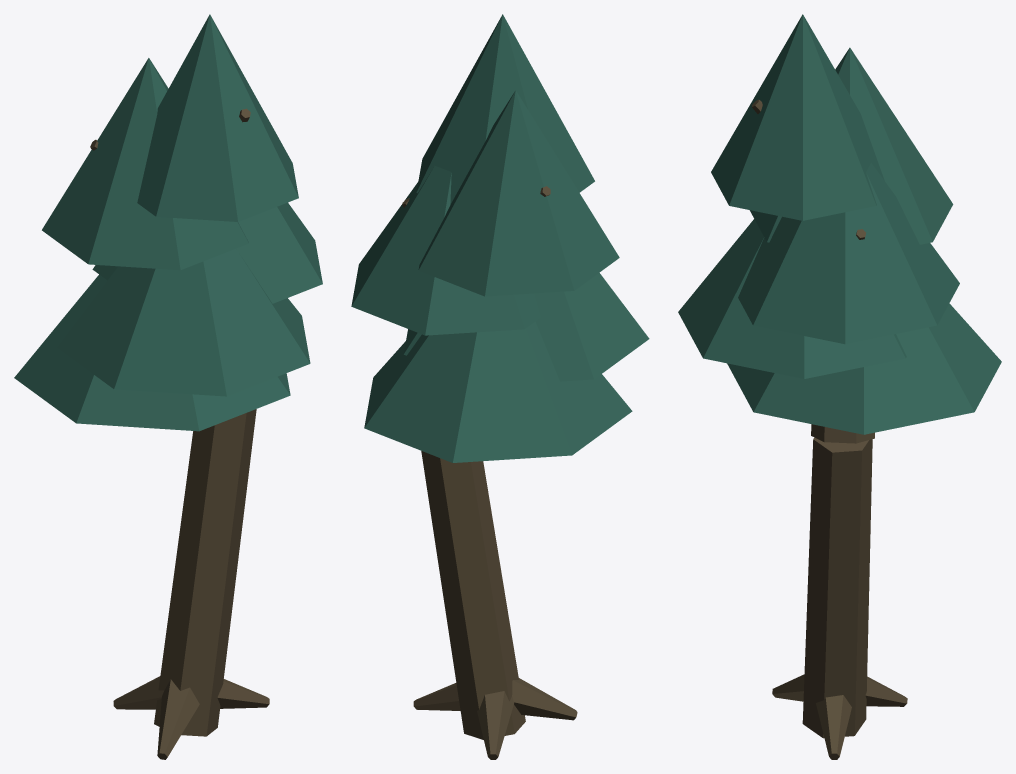
File: map-boundaries-v5__ridge_06.glb
3 renders of one model, left to right at view 1: azimuth 30°, elevation 25°; view 2: azimuth 150°, elevation 25°; view 3: azimuth 270°, elevation 25°, orthographic. The views are drawn at different scales.
Visible parts, largest first — view 1: ridge_06; view 2: ridge_06; view 3: ridge_06.
Boxes of the visible parts, box(x1,y1,x2,y2) form: ridge_06: box(14, 14, 322, 759); ridge_06: box(351, 14, 649, 759); ridge_06: box(678, 14, 1001, 759).
Bounding box in the file's own units: 1.38 × 3.68 × 1.51.
